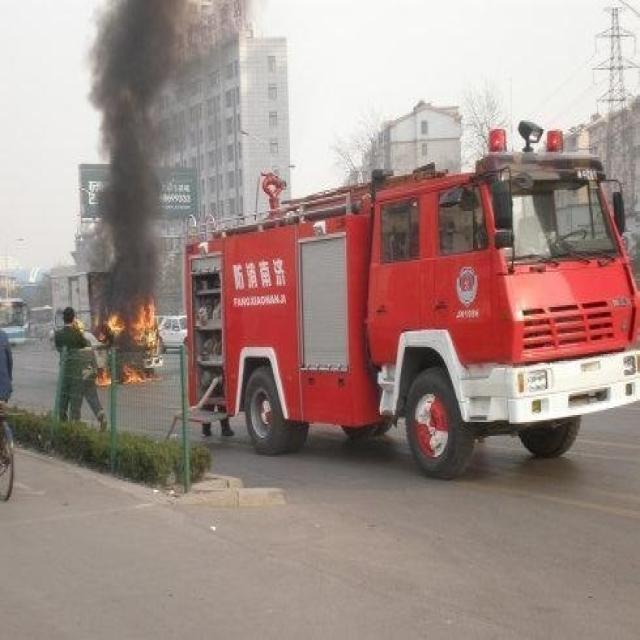Fire: (92, 298, 168, 387)
Smoke: (84, 2, 226, 302)
